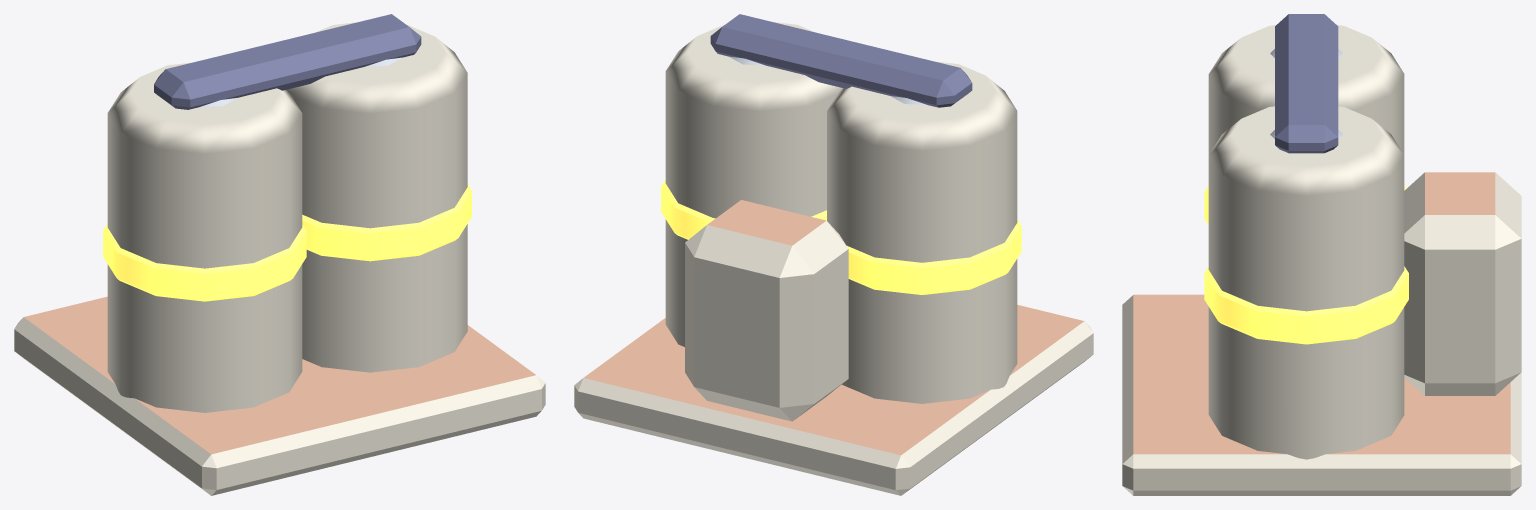
Rendered from R4X_Battery_LOD1.fbx.
The picture shows the model from 3 angles, left to right: view 1: azimuth 30°, elevation 25°; view 2: azimuth 150°, elevation 25°; view 3: azimuth 270°, elevation 25°; orthographic projection. The views are drawn at different scales.
Visible parts, largest first — view 1: R4X_Battery_LOD1; view 2: R4X_Battery_LOD1; view 3: R4X_Battery_LOD1.
Part boxes in pixels (x1,y1,x2,y2): R4X_Battery_LOD1: (14, 14, 545, 495); R4X_Battery_LOD1: (574, 14, 1093, 495); R4X_Battery_LOD1: (1122, 14, 1521, 495).
Size of the model in its own units: 0.52 by 0.4986 by 0.52.
